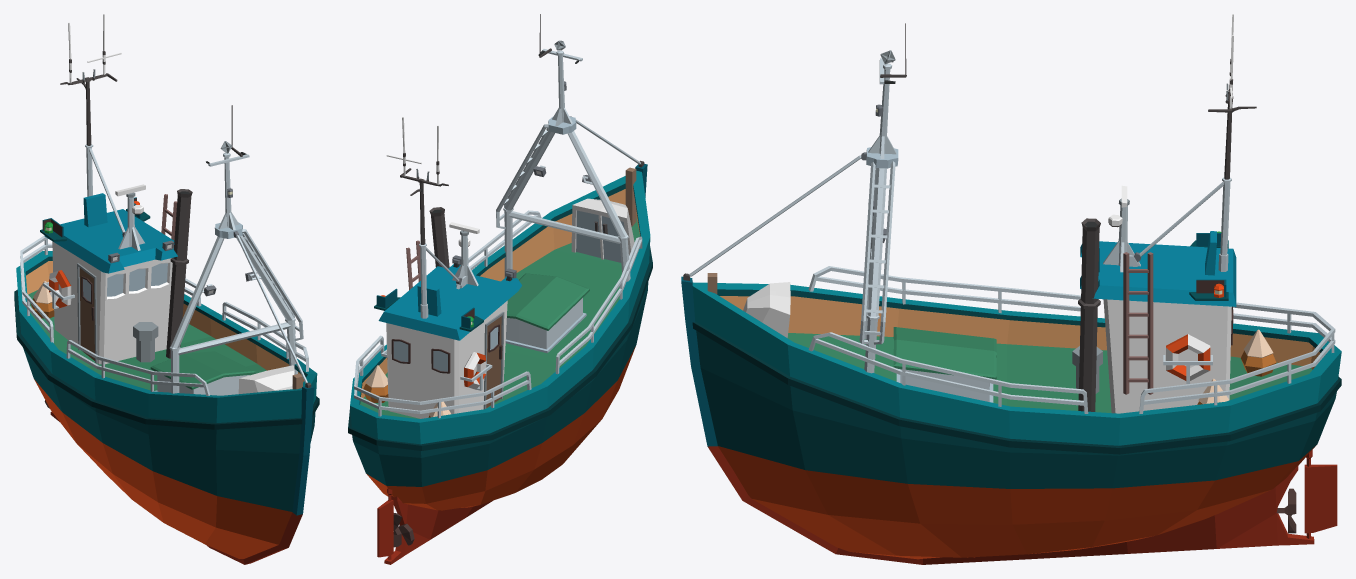
File: boat.glb
3 views of the same model, side by side, from view 1: azimuth 30°, elevation 25°; view 2: azimuth 150°, elevation 25°; view 3: azimuth 270°, elevation 25° (orthographic). The views are drawn at different scales.
Visible parts, largest first — view 1: FB Medium Hull, FB M1 Cabin, FishHole, Exhaust, MastLadder, Lifetorus, Marking Lights.001, BumpBuoy.001, Ladder; view 2: FB Medium Hull, FB M1 Cabin, FishHole, Rudder, Exhaust, MastLadder, Marking Lights.001, BumpBuoy, Lifetorus, Propeller, Ladder; view 3: FB Medium Hull, FB M1 Cabin, FishHole, Exhaust, Ladder, MastLadder, Rudder, Lifetorus, Marking Lights.001, BumpBuoy.001.
Part boxes in pixels (box(x1,y1,x2,y2)): FB Medium Hull: box(14, 105, 319, 564); FB M1 Cabin: box(43, 14, 177, 364); FishHole: box(150, 351, 256, 395); Exhaust: box(166, 189, 192, 358); MastLadder: box(242, 229, 303, 340); Lifetorus: box(49, 270, 71, 308); Marking Lights.001: box(40, 197, 150, 241); BumpBuoy.001: box(31, 281, 54, 318); Ladder: box(161, 194, 177, 240); FB Medium Hull: box(348, 14, 652, 564); FB M1 Cabin: box(378, 117, 521, 418); FishHole: box(505, 273, 589, 353); Rudder: box(377, 488, 393, 559); Exhaust: box(429, 207, 449, 268); MastLadder: box(496, 124, 548, 229); Marking Lights.001: box(374, 288, 483, 331); BumpBuoy: box(363, 365, 388, 402); Lifetorus: box(387, 352, 486, 389); Propeller: box(393, 513, 414, 547); Ladder: box(406, 240, 420, 289); FB Medium Hull: box(681, 23, 1341, 564); FB M1 Cabin: box(1080, 14, 1256, 413); FishHole: box(893, 327, 996, 402); Exhaust: box(1078, 218, 1100, 411); Ladder: box(1123, 252, 1153, 394); MastLadder: box(859, 161, 895, 344); Rudder: box(1304, 450, 1337, 538); Lifetorus: box(1166, 334, 1210, 380); Marking Lights.001: box(1189, 231, 1228, 300); BumpBuoy.001: box(1240, 329, 1276, 376).
Size of the model in its own units: 22.94 by 56.72 by 62.05.
2 materials, 2 textured.
